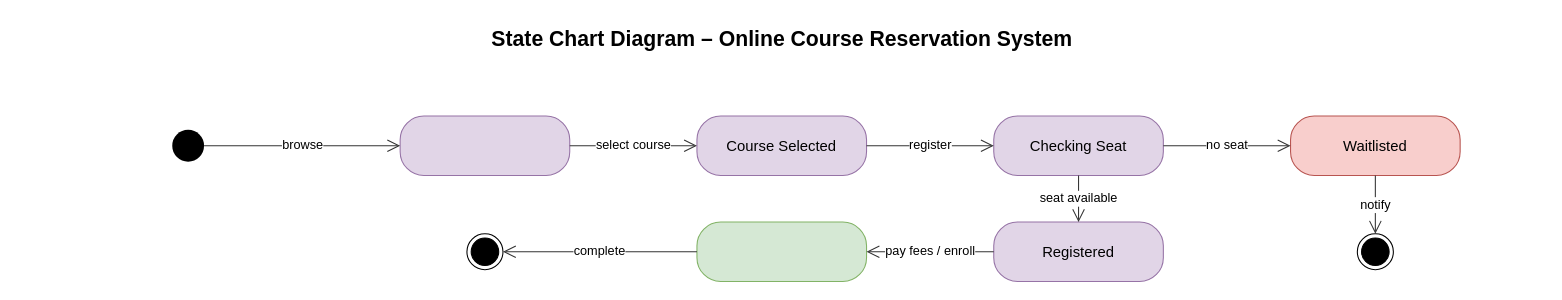
Image size: 1562x300. Some labels were removed from this diagram. The centre of each missing label's shape, as x and y in pixels:
Browsing: [484,145]
Enrolled: [781,251]
